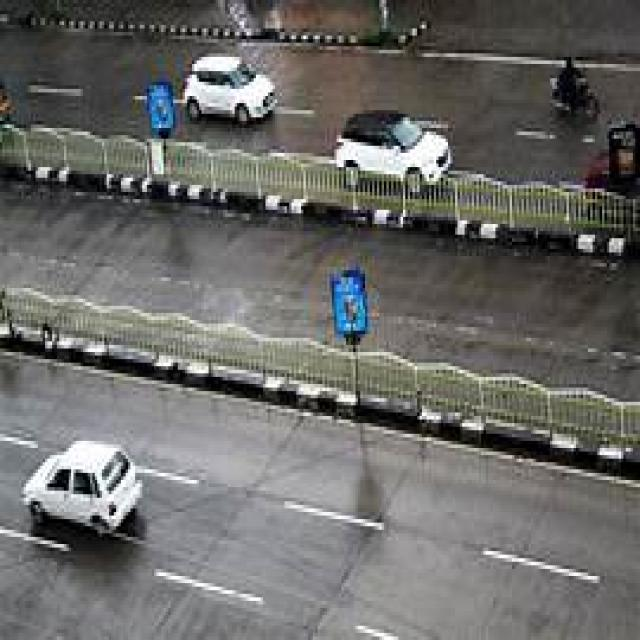Car: (336, 114, 451, 181), (48, 452, 141, 528), (186, 54, 275, 121)
